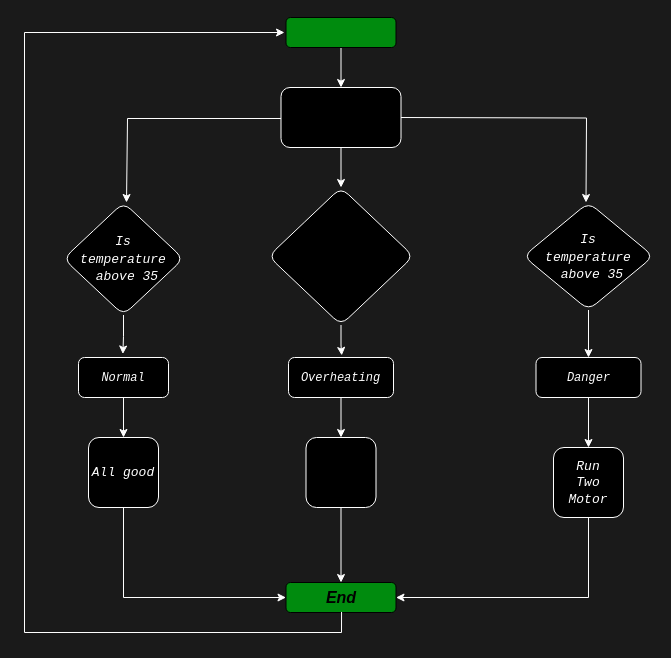
Some shapes in this 671 by 658 pixel diagram are drawn without their labels. Each missing label, with the box of its shape:
Get Sensor Reading: (280, 86, 401, 148)
Is temperature between 30 and 35: (268, 186, 414, 325)
Run One Motor: (305, 436, 376, 508)
Start: (285, 16, 396, 48)
